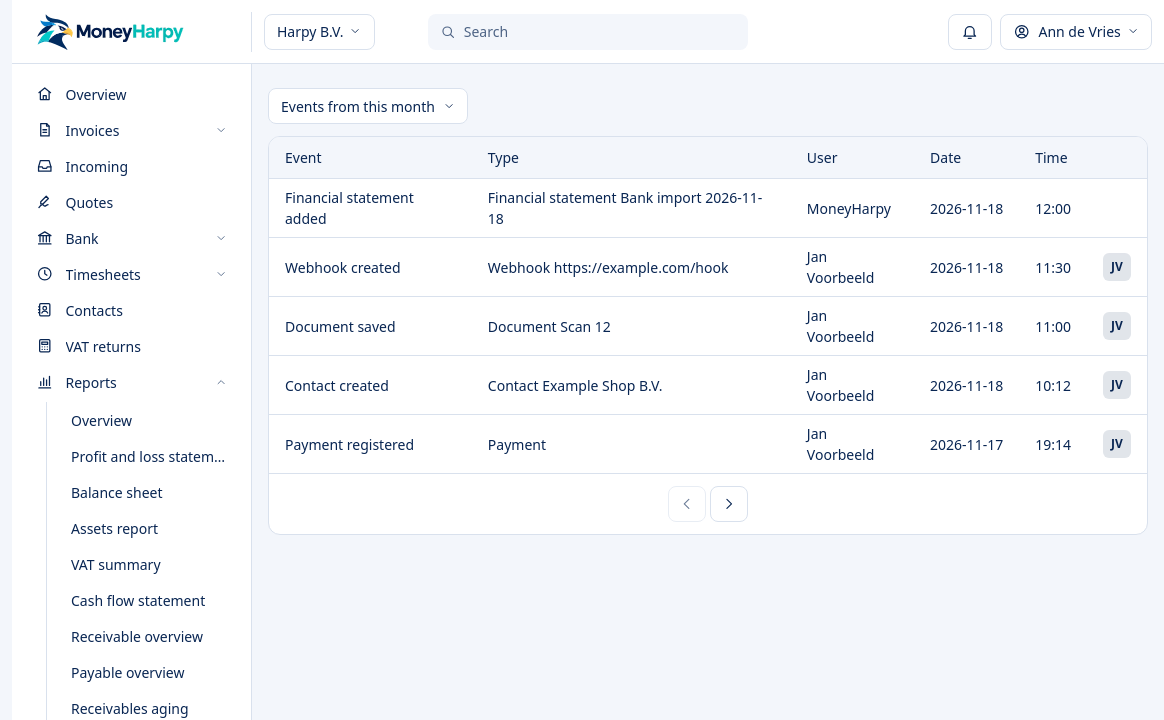
events page › lists what happened this month with who did it
expect the button "Events from this month" is shown: met, box x1=268 y1=88 x2=468 y2=124
expect the row "Contact created" reads "Contact created Contact Example Shop B.V. Jan Voorbeeld 2026-11-18 10:12 JV": met, box x1=269 y1=356 x2=1147 y2=414
Click the button named "Older events". click: (729, 504)
box: x1=710 y1=486 x2=748 y2=522
(page scrolled)
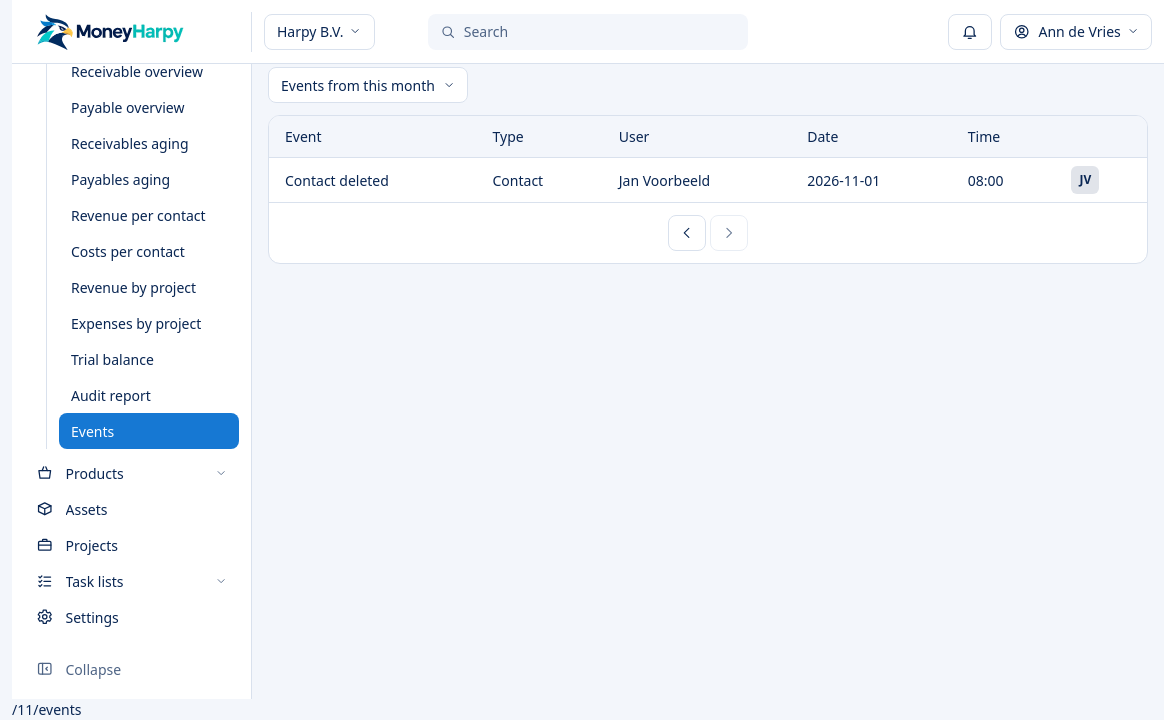
expect the row "Contact deleted Contact Jan Voorbeeld 2026-11-01 08:00 JV" is shown: met, box x1=269 y1=158 x2=1147 y2=202
